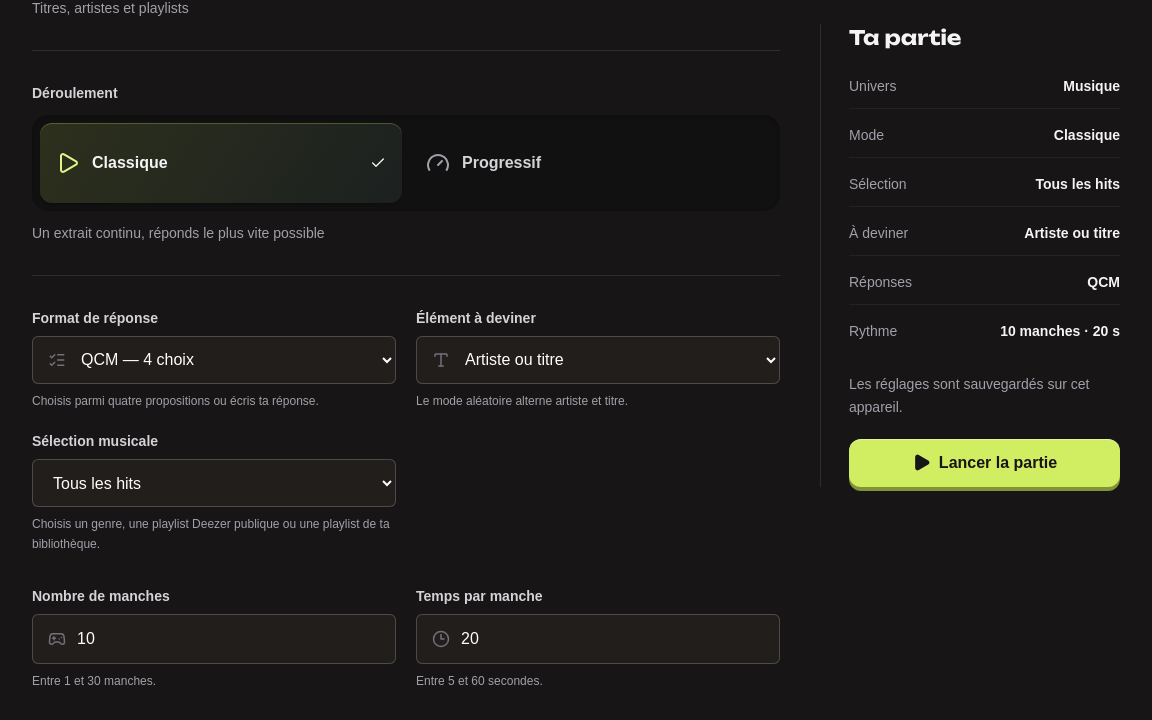
Test case: Settings playlist source › lets a number be cleared while editing and rejects decimals
(page scrolled)
Clear the number field labelled "Nombre de manches" at (214, 639), box [32,614,396,664]
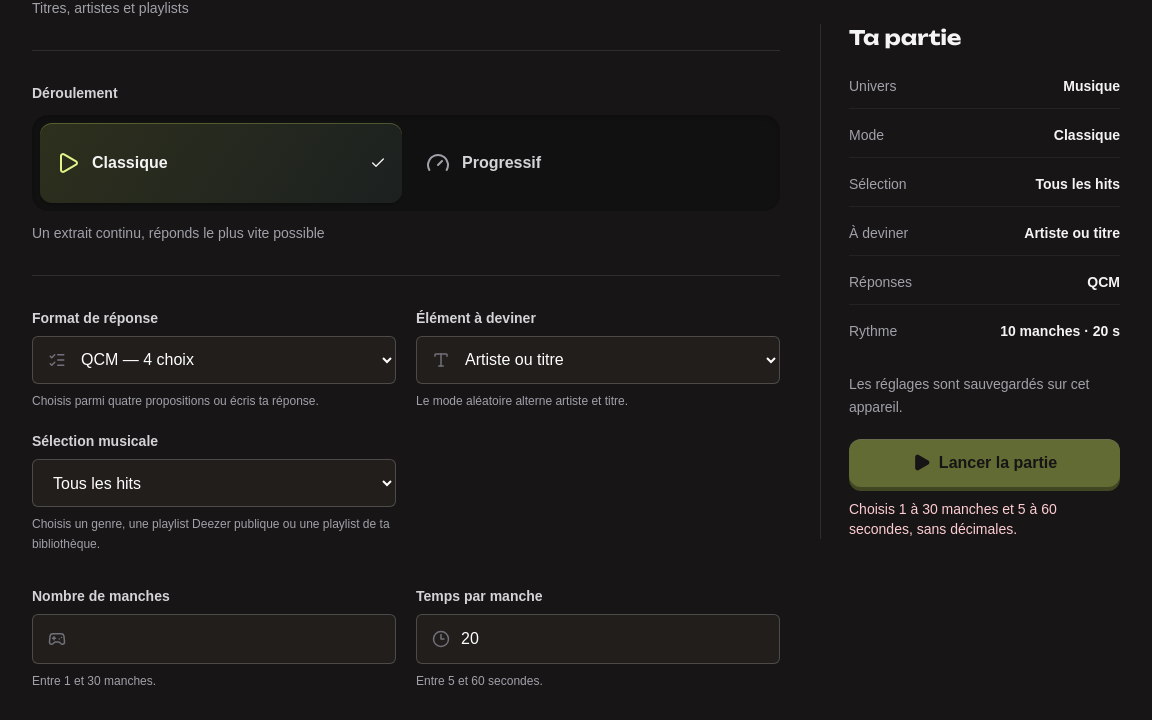
Expected: the button "Lancer la partie" is disabled, [849,438,1120,486]
Type "2.5" into the number field labelled "Nombre de manches" at (214, 639), box [32,614,396,664]
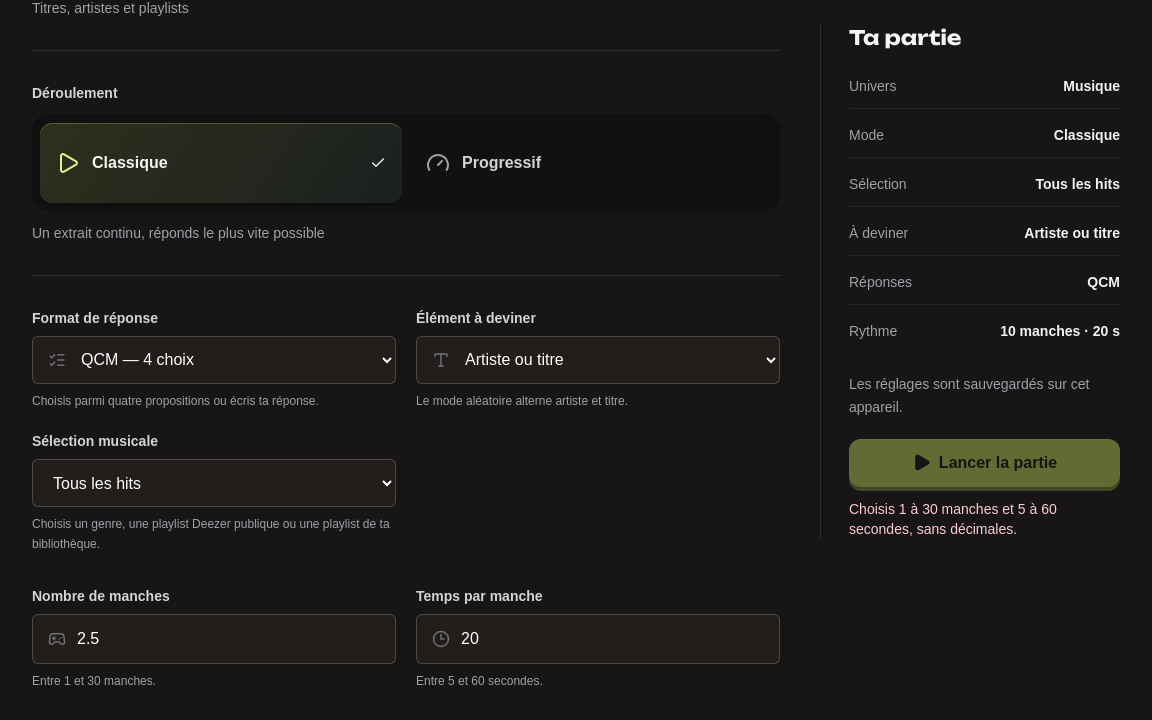
Expected: the number field labelled "Nombre de manches" is marked as invalid
Replace the text in the number field labelled "Nombre de manches" with "12" at (214, 639), box [32,614,396,664]
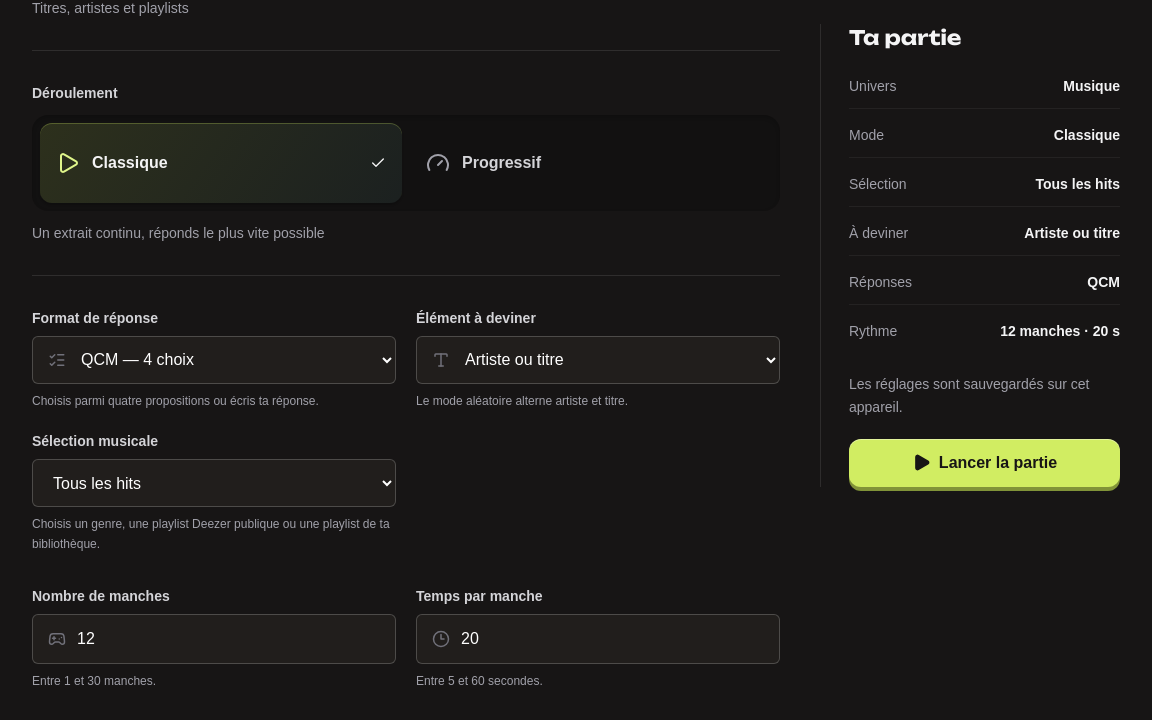
Expected: the button "Lancer la partie" is enabled, [849,438,1120,486]
